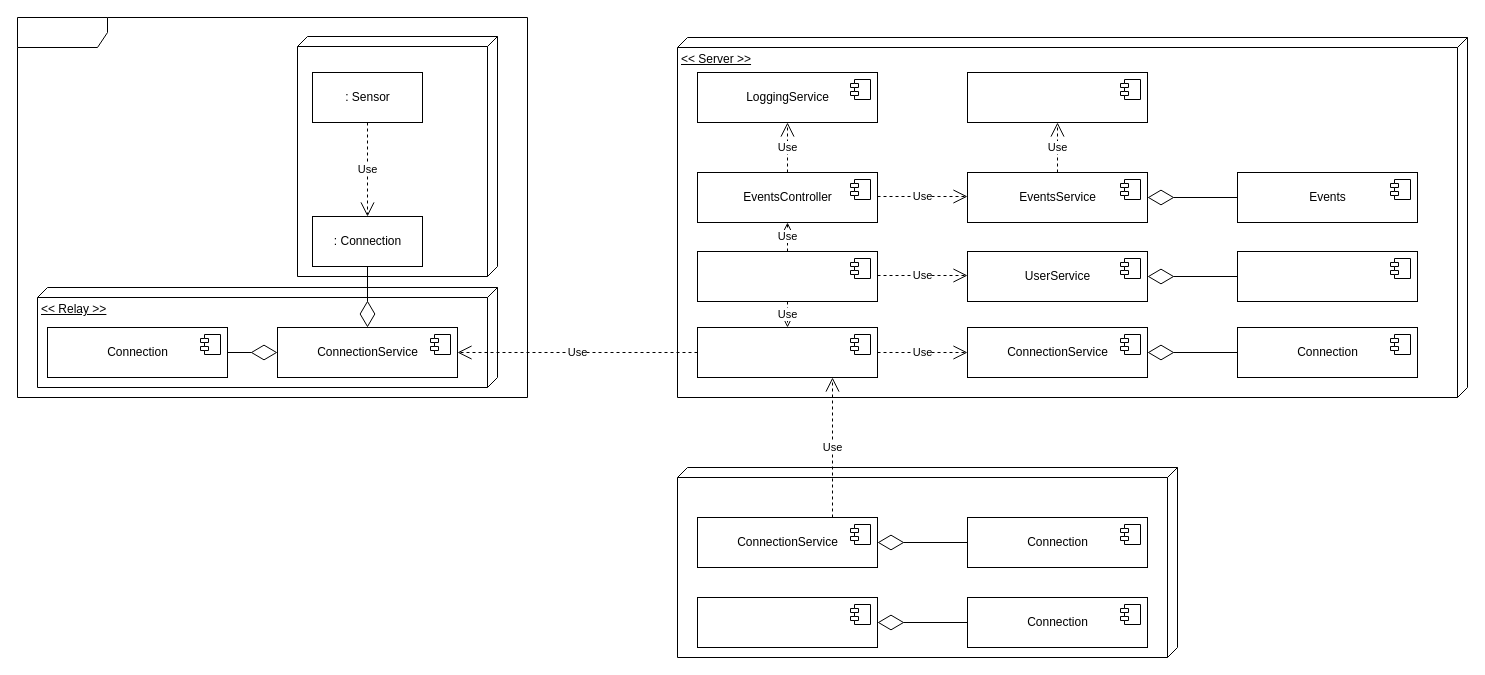
Some shapes in this 1485 by 675 pixel diagram are drawn without their labels. Here are the shapes that lost their labels. From the top down, the box of each, then its label:
(966, 72, 1148, 122): HTTPClientService
(296, 36, 498, 276): << Arduino >>
(16, 16, 528, 398): Alarm
(696, 250, 878, 302): UserController
(1236, 250, 1418, 302): User
(696, 326, 878, 378): ConnectionController
(676, 466, 1178, 658): << Desktop applicatie >>
(696, 596, 878, 648): DashboardService
